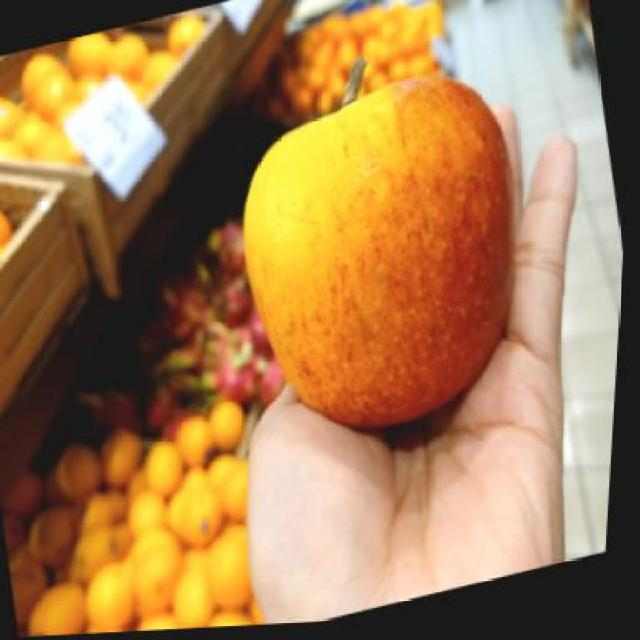Fresh Apple: (236, 89, 525, 432)
